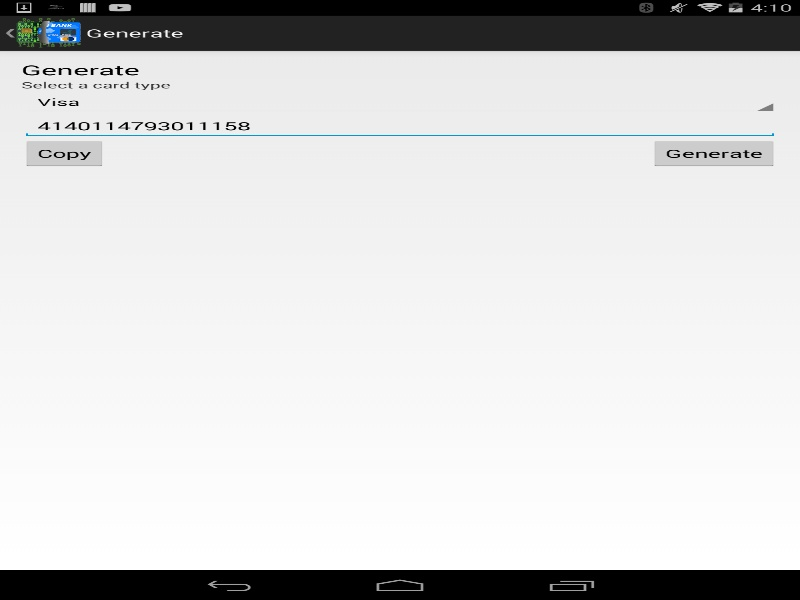Button: (649, 138, 778, 168), (21, 138, 107, 168)
Input: (21, 113, 778, 138)
